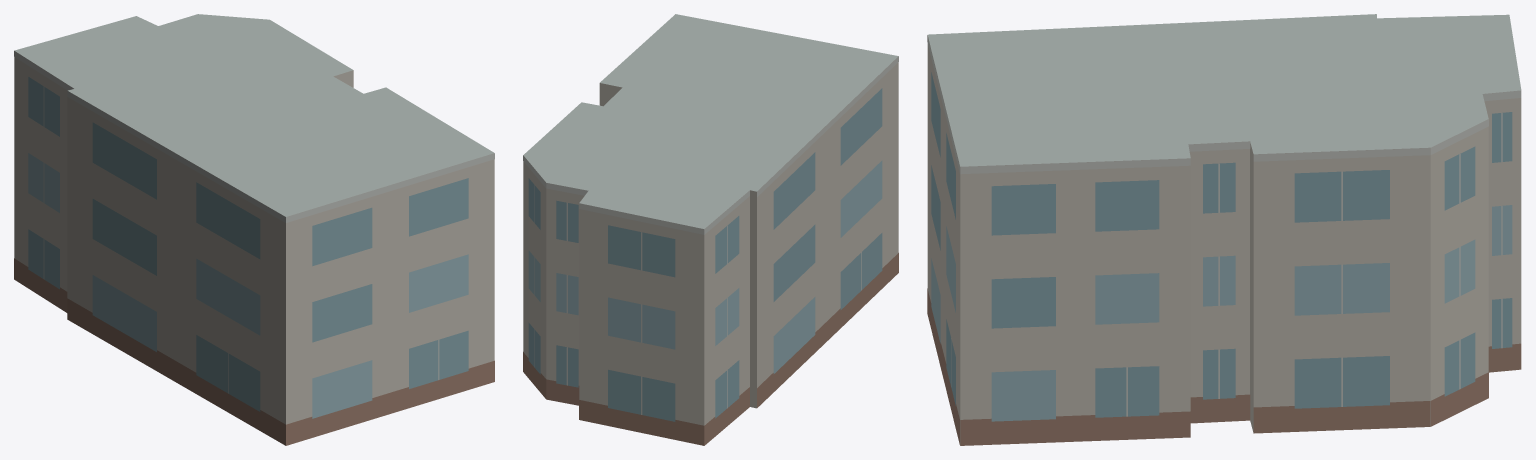
File: survey-upis-32662724.glb
The picture shows the model from 3 angles, left to right: view 1: azimuth 30°, elevation 25°; view 2: azimuth 150°, elevation 25°; view 3: azimuth 270°, elevation 25°; orthographic projection. The views are drawn at different scales.
Visible parts, largest first — view 1: survey-upis-32662724.tmp; view 2: survey-upis-32662724.tmp; view 3: survey-upis-32662724.tmp.
Boxes of the visible parts, box(x1,y1,x2,y2) form: survey-upis-32662724.tmp: box(14, 14, 494, 445); survey-upis-32662724.tmp: box(523, 14, 898, 445); survey-upis-32662724.tmp: box(927, 14, 1521, 445).
Bounding box in the file's own units: 10.75 × 9.15 × 17.66.
